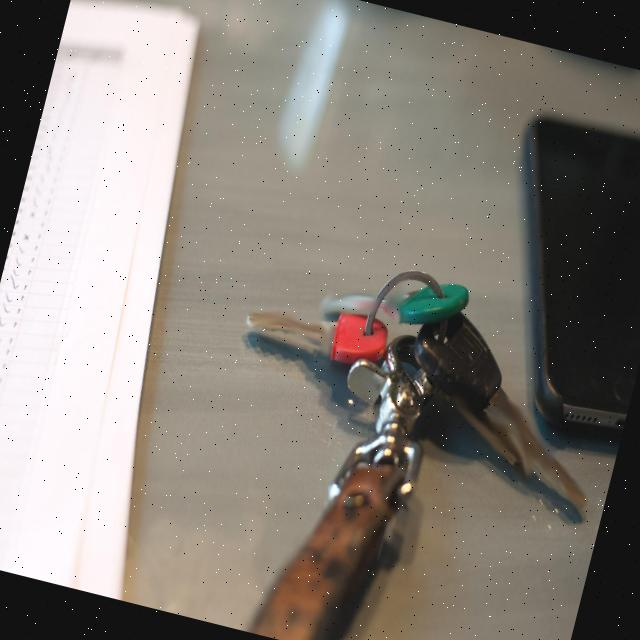Frontdoor keys: (239, 290, 385, 368)
Phone: (452, 102, 640, 458)
